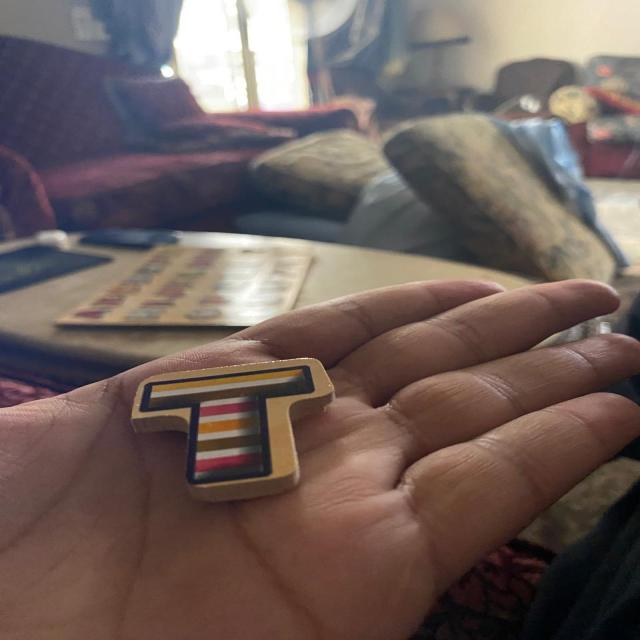T: (131, 359, 333, 502)
